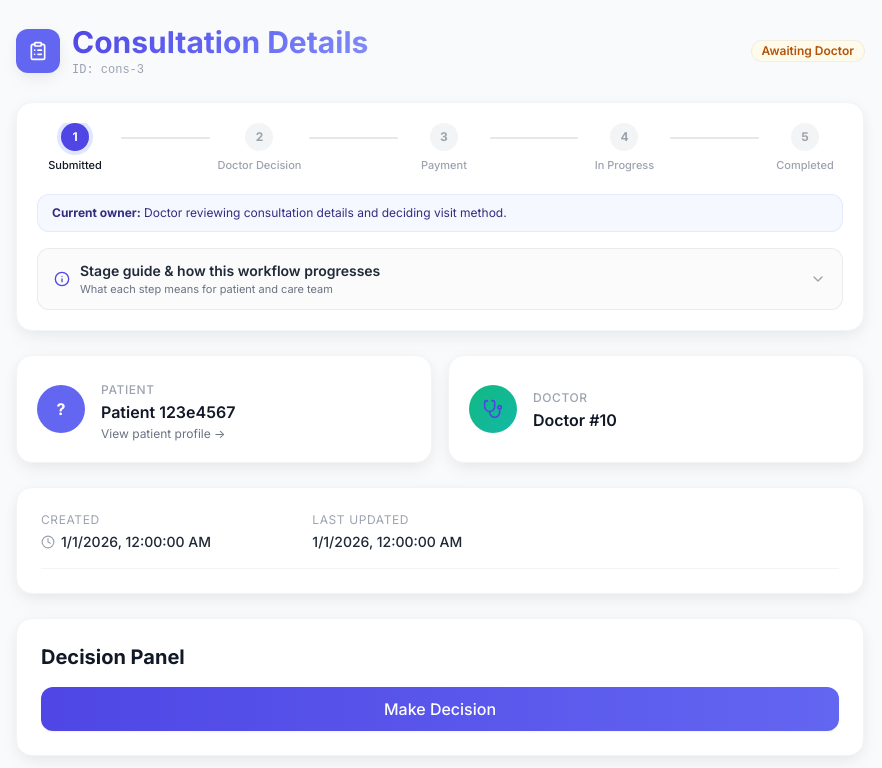
Test: Client audit bugfix regressions › ConsultationDetailPage full lifecycle actions › disables Decision submit with "Soon..." when Video Call or Voice Call is chosen and supports DIRECT_DIAGNOSIS
The width and height of the screenshot is (882, 768).
Later steps or results of the test are not shown.
Step 1. Click the button "Make Decision" → (440, 709), box x1=41 y1=687 x2=839 y2=731
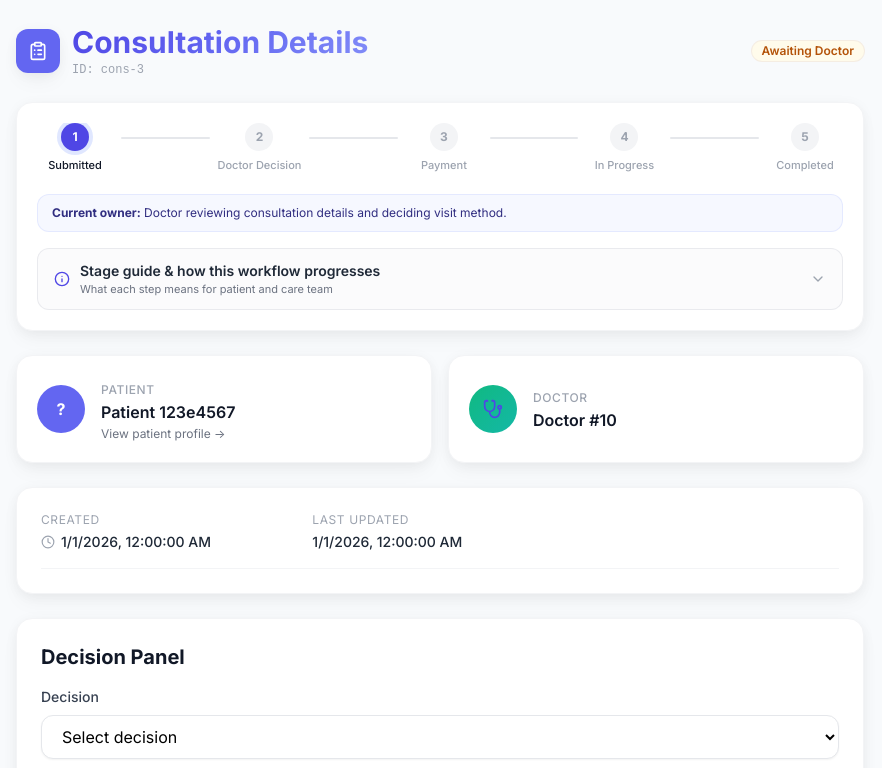
Step 2. Select "Consultation" in the dropdown labelled "Decision" → (440, 737), box x1=41 y1=715 x2=839 y2=759
(page scrolled)
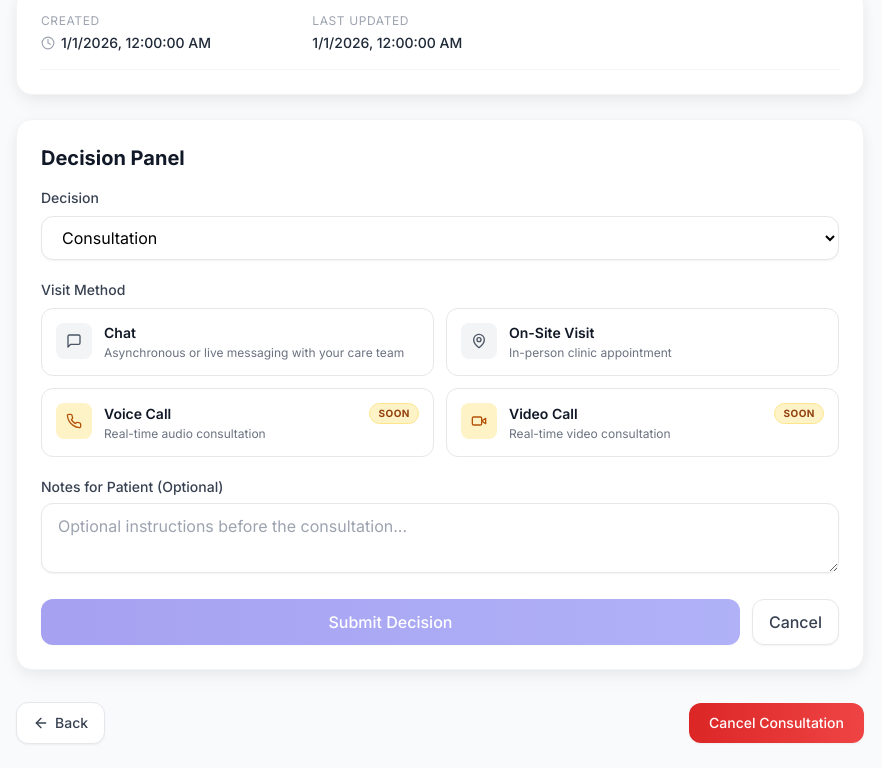
Step 3. Click the radio button labelled "Video Call Soon Real-time video consultation" → (479, 421), box x1=446 y1=388 x2=839 y2=457
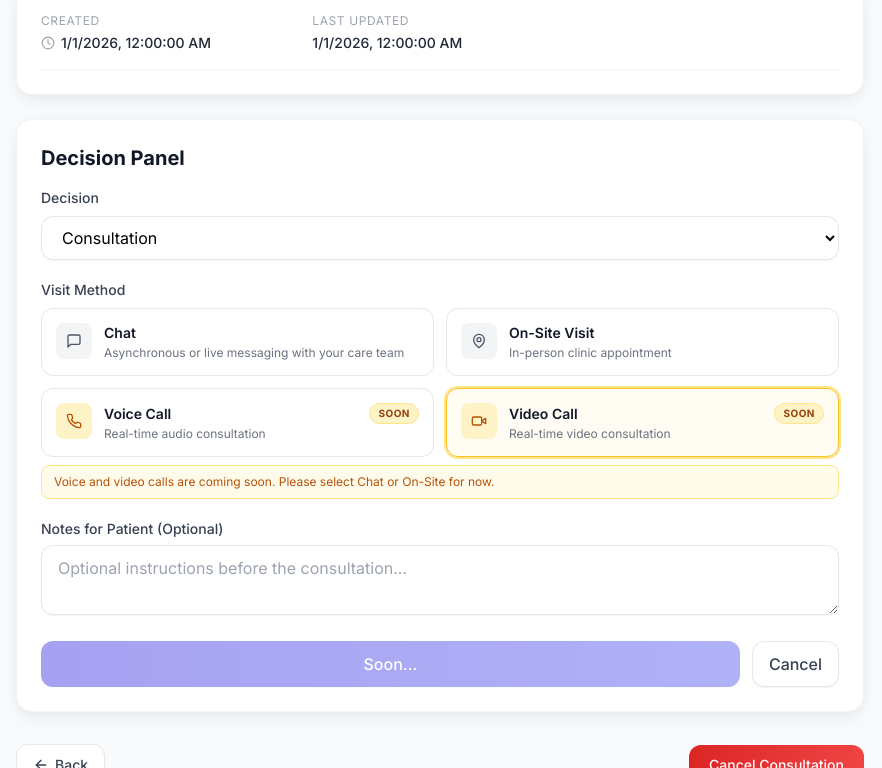
Result: the button "Soon..." is disabled at x1=41 y1=641 x2=740 y2=687
